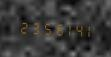five: (39, 19, 49, 36)
four: (72, 20, 82, 38)
one: (61, 20, 71, 37), (83, 21, 93, 38)
six: (50, 19, 60, 37)
three: (28, 18, 38, 36)
two: (17, 18, 27, 35)
